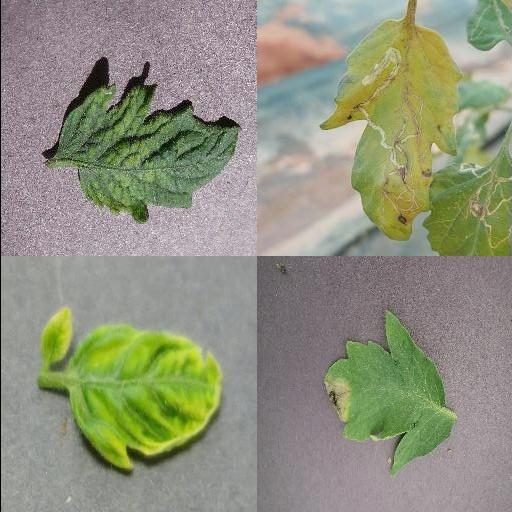Late Blight: (323, 309, 453, 477)
Leaf Miner: (318, 19, 464, 241)
Mosaic Virus: (53, 84, 241, 222)
Yellow Leaf Curl Virus: (66, 327, 222, 474), (35, 306, 73, 366)
